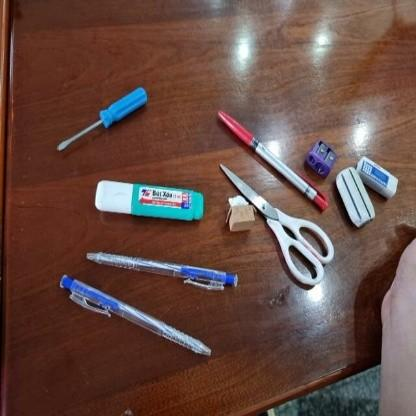not trash: (45, 266, 215, 361), (210, 157, 326, 291), (210, 114, 320, 206), (73, 243, 250, 299), (76, 172, 208, 226), (55, 91, 149, 163), (330, 166, 374, 230), (352, 154, 401, 194), (216, 195, 251, 231)
